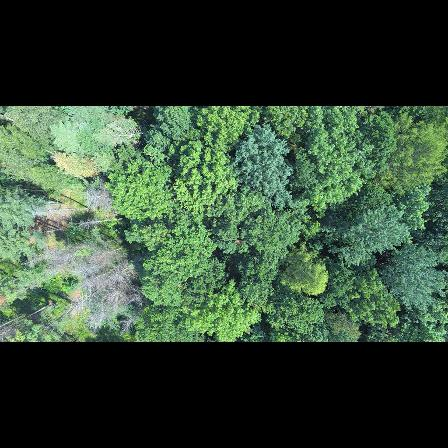Dead: (44, 283, 104, 329), (91, 287, 137, 325), (85, 266, 132, 301), (24, 243, 74, 268), (84, 244, 128, 268), (85, 177, 119, 208), (77, 213, 128, 231), (122, 302, 145, 332), (67, 261, 108, 277)
